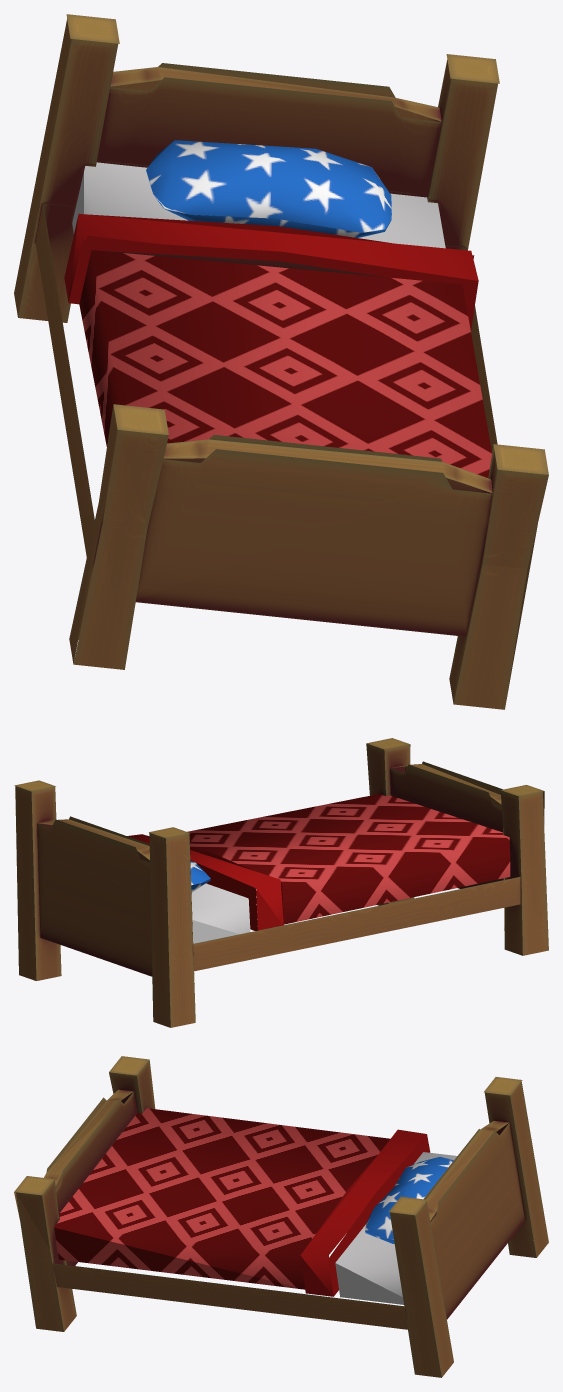
File: bed.glb
3 renders of one model, top to bottom at view 1: azimuth 30°, elevation 25°; view 2: azimuth 150°, elevation 25°; view 3: azimuth 270°, elevation 25°, orthographic. The views are drawn at different scales.
Parts seen in each view (by area): view 1: wood3_low, bed1_low, wood1_low, pillow_low, bed_low, wood2_low; view 2: bed1_low, wood1_low, wood3_low, wood2_low, bed_low, pillow_low; view 3: bed1_low, wood1_low, wood3_low, wood2_low, bed_low, pillow_low.
Boxes of the visible parts, x1,y1,x2,y2 form: wood3_low: (97,63,492,636); bed1_low: (64,213,491,477); wood1_low: (14,14,548,709); pillow_low: (146,140,391,237); bed_low: (72,162,445,248); wood2_low: (35,203,497,557); bed1_low: (127,794,510,930); wood1_low: (14,738,548,1027); wood3_low: (37,761,503,976); wood2_low: (193,876,520,971); bed_low: (191,883,250,943); pillow_low: (190,861,210,892); bed1_low: (54,1108,430,1296); wood1_low: (14,1056,548,1377); wood3_low: (44,1089,525,1319); wood2_low: (53,1263,407,1329); bed_low: (335,1152,456,1304); pillow_low: (365,1157,453,1243).
Bounding box in the file's own units: 608 × 360 × 728.
Materials: 1 (1 with a texture image).
